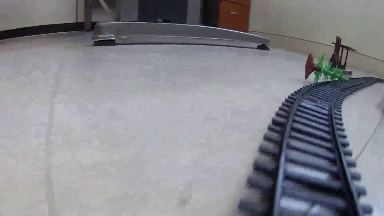tree: (303, 52, 350, 82)
